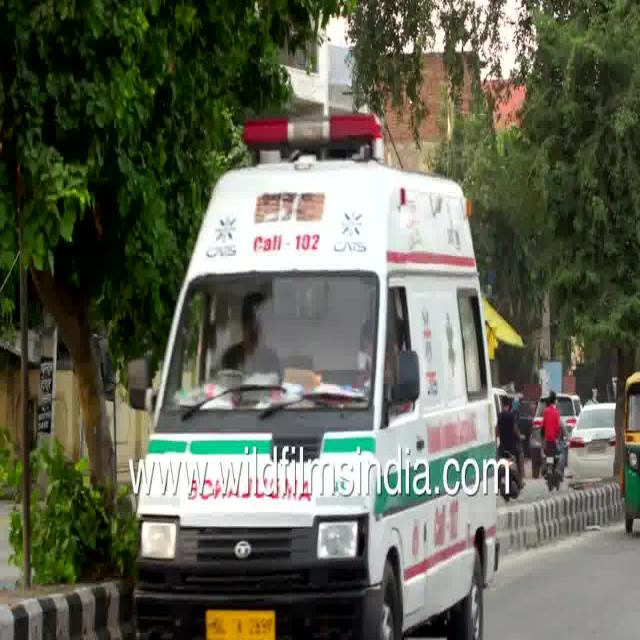ambulance: (133, 120, 502, 446)
